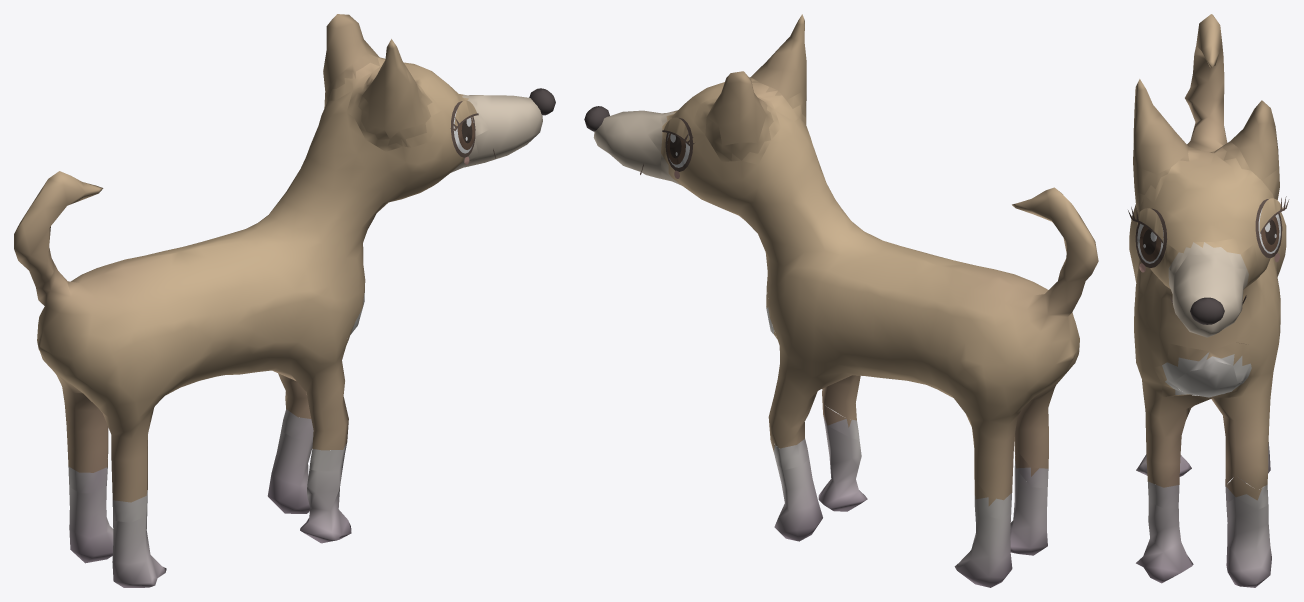
File: indie_dog.glb
The picture shows the model from 3 angles, left to right: view 1: azimuth 30°, elevation 25°; view 2: azimuth 150°, elevation 25°; view 3: azimuth 270°, elevation 25°; orthographic projection. The views are drawn at different scales.
Visible parts, largest first — view 1: indie_dog; view 2: indie_dog; view 3: indie_dog.
Boxes of the visible parts, <box> form: indie_dog: <box>14,14,555,587</box>; indie_dog: <box>584,14,1098,587</box>; indie_dog: <box>1128,14,1289,587</box>.
Bounding box in the file's own units: 0.6276 × 0.5583 × 0.1551.
